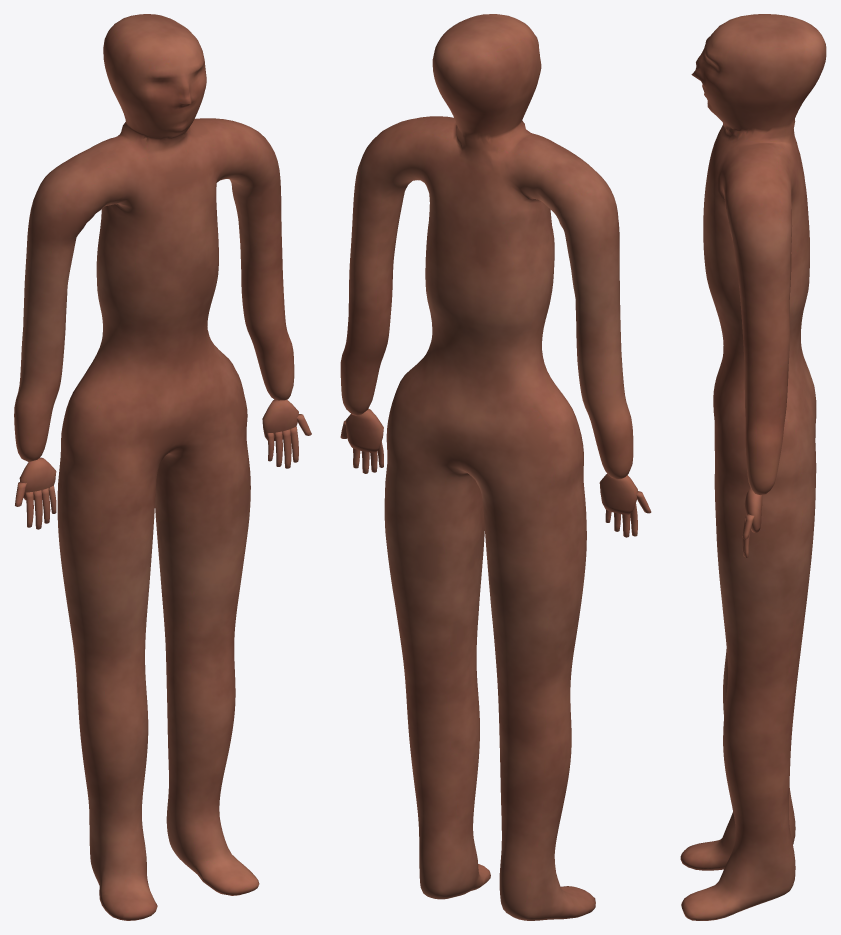
File: heroi_julia_fase2_pbr_bracos_maos_ok.glb
The picture shows the model from 3 angles, left to right: view 1: azimuth 30°, elevation 25°; view 2: azimuth 150°, elevation 25°; view 3: azimuth 270°, elevation 25°; orthographic projection. The views are drawn at different scales.
Visible parts, largest first — view 1: JuliaBase; view 2: JuliaBase; view 3: JuliaBase.
Boxes of the visible parts, box(x1,y1,x2,y2) form: JuliaBase: box(14, 14, 311, 920); JuliaBase: box(340, 14, 651, 920); JuliaBase: box(680, 14, 826, 920).
Size of the model in its own units: 0.6238 by 1.72 by 0.2618.
Materials: 1 (1 with a texture image).
